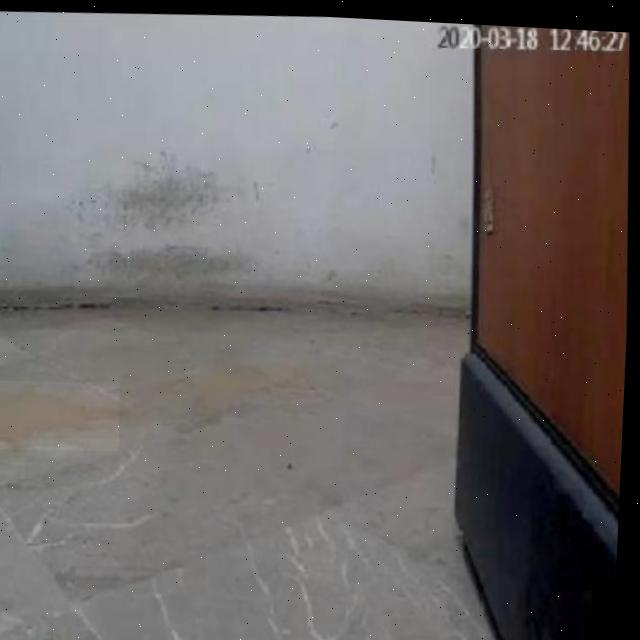spillage: (0, 381, 123, 448)
